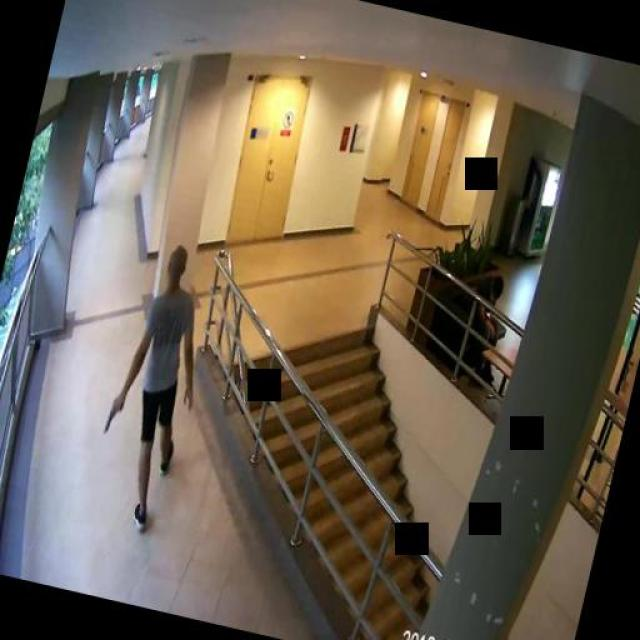gun: (102, 392, 124, 432)
